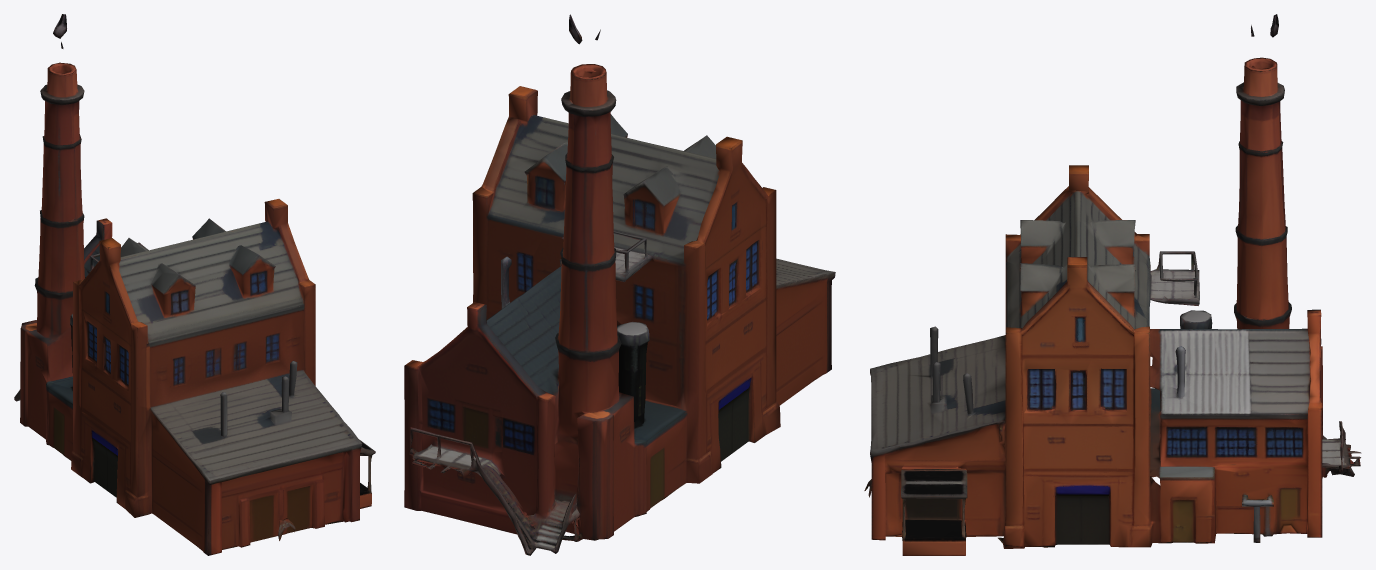
File: factory_brick.glb
The picture shows the model from 3 angles, left to right: view 1: azimuth 30°, elevation 25°; view 2: azimuth 150°, elevation 25°; view 3: azimuth 270°, elevation 25°; orthographic projection. The views are drawn at different scales.
Parts seen in each view (by area): view 1: world; view 2: world; view 3: world.
Part boxes in pixels (x1,y1,x2,y2): world: [14, 14, 375, 555]; world: [404, 14, 835, 555]; world: [864, 14, 1361, 555].
Size of the model in its own units: 0.5026 by 1 by 0.9757.
Materials: 1 (1 with a texture image).
